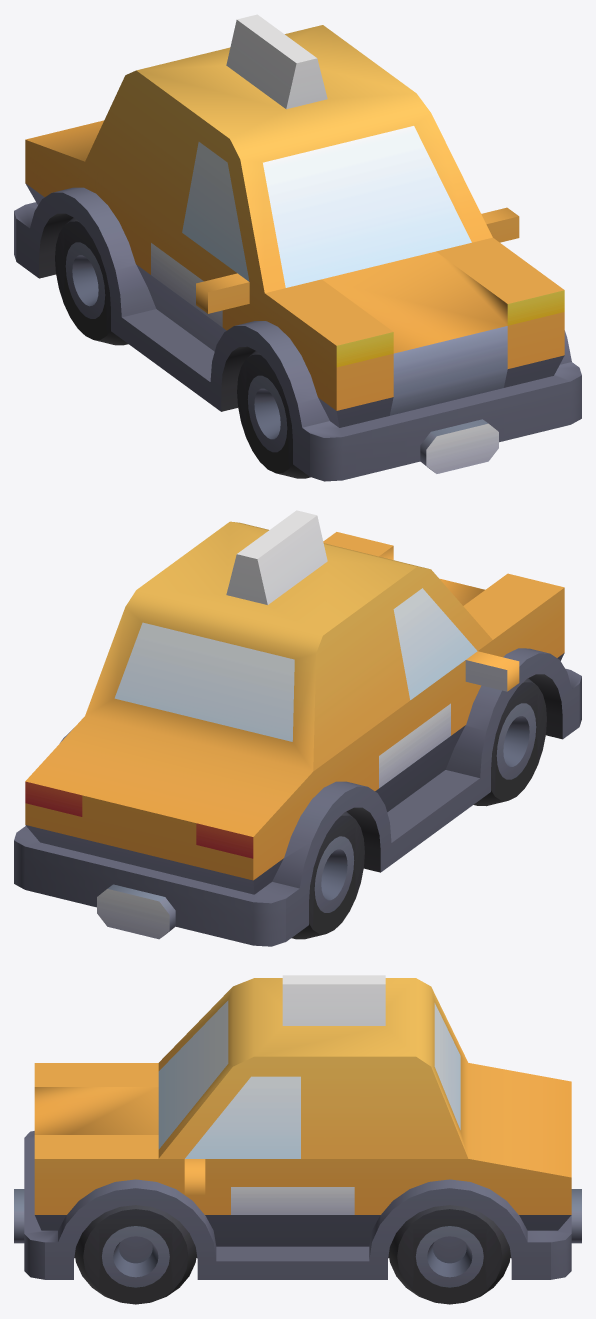
The model's file is car_taxi.glb.
3 views of the same model, one above another, from view 1: azimuth 30°, elevation 25°; view 2: azimuth 150°, elevation 25°; view 3: azimuth 270°, elevation 25° (orthographic). The views are drawn at different scales.
Parts seen in each view (by area): view 1: body; view 2: body; view 3: body.
Part boxes in pixels (x1,y1,x2,y2): body: (14,14,581,481); body: (14,510,581,946); body: (14,975,581,1304).
Bounding box in the file's own units: 1.83 × 1.83 × 3.35.
Materials: 1 (1 with a texture image).
